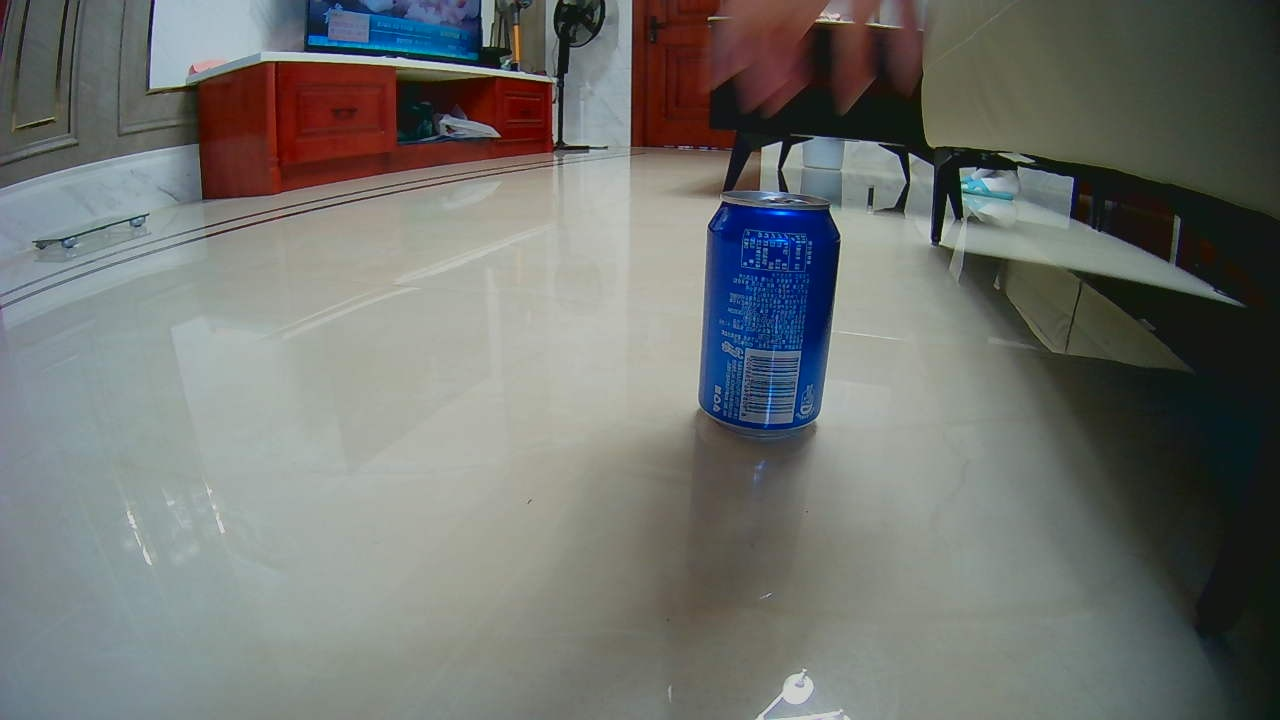pessi: (711, 190, 829, 436)
